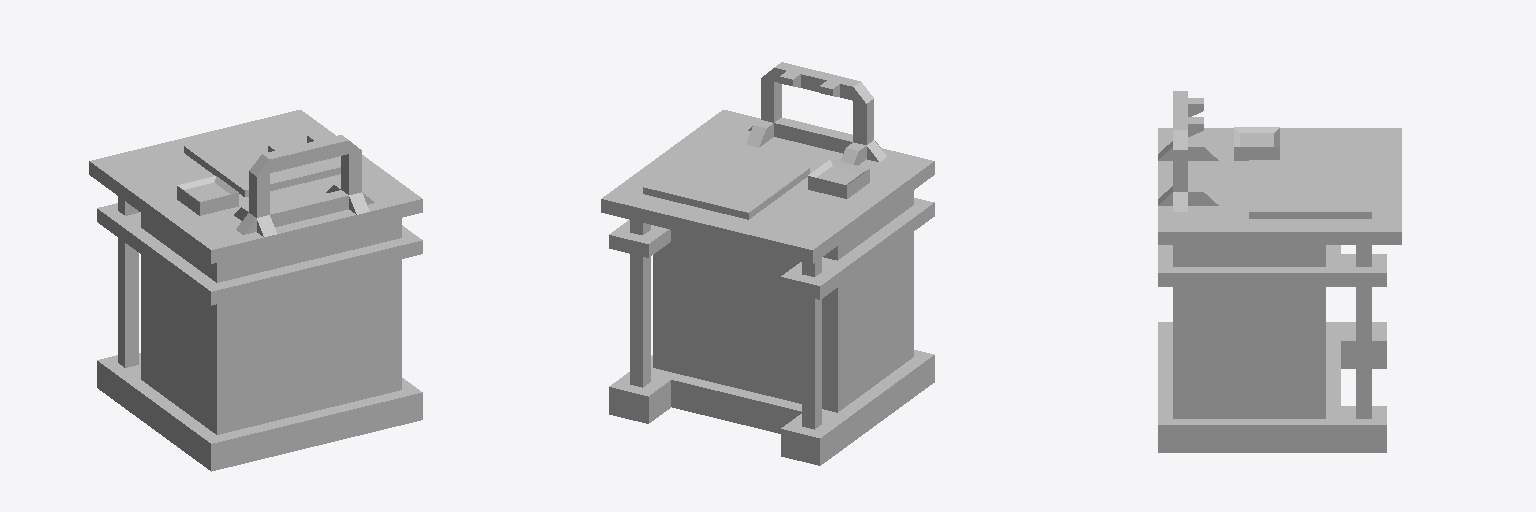
Rendered from station_runescribing_inventory.obj.
3 renders of one model, left to right at view 1: azimuth 30°, elevation 25°; view 2: azimuth 150°, elevation 25°; view 3: azimuth 270°, elevation 25°, orthographic.
Parts seen in each view (by area): view 1: DESK_SINGLE_MAIN.006, RUNESCRIBING_MAIN_Cube.008, RUNESCRIBING_PATTERN_Plane; view 2: DESK_SINGLE_MAIN.006, RUNESCRIBING_MAIN_Cube.008, RUNESCRIBING_PATTERN_Plane; view 3: DESK_SINGLE_MAIN.006, RUNESCRIBING_MAIN_Cube.008, RUNESCRIBING_PATTERN_Plane.
Part boxes in pixels (bbox=[...]): DESK_SINGLE_MAIN.006: bbox=[89, 110, 422, 471]; RUNESCRIBING_MAIN_Cube.008: bbox=[177, 120, 374, 236]; RUNESCRIBING_PATTERN_Plane: bbox=[131, 153, 204, 189]; DESK_SINGLE_MAIN.006: bbox=[601, 110, 934, 465]; RUNESCRIBING_MAIN_Cube.008: bbox=[643, 62, 886, 219]; RUNESCRIBING_PATTERN_Plane: bbox=[762, 192, 839, 228]; DESK_SINGLE_MAIN.006: bbox=[1158, 128, 1401, 452]; RUNESCRIBING_MAIN_Cube.008: bbox=[1158, 91, 1371, 218]; RUNESCRIBING_PATTERN_Plane: bbox=[1295, 138, 1371, 156].
Size of the model in its own units: 1 by 1.31 by 1.